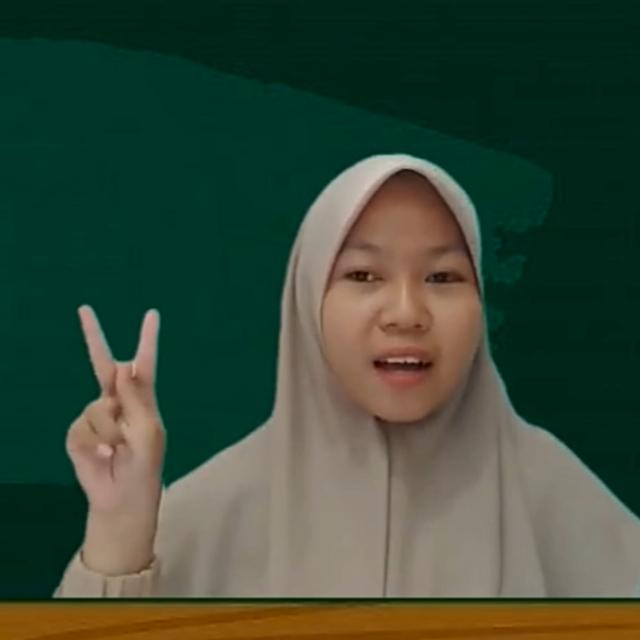K: (64, 294, 168, 536)
